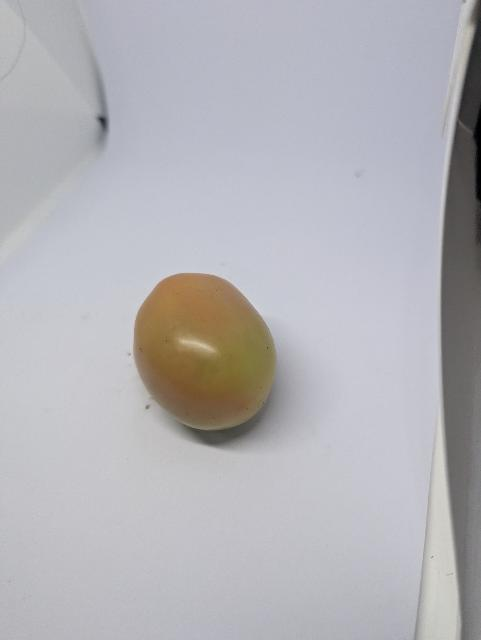turning: (122, 265, 292, 447)
